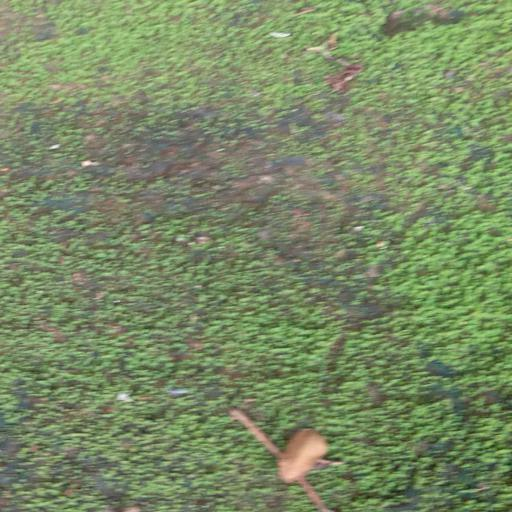algae: (3, 5, 512, 512)
